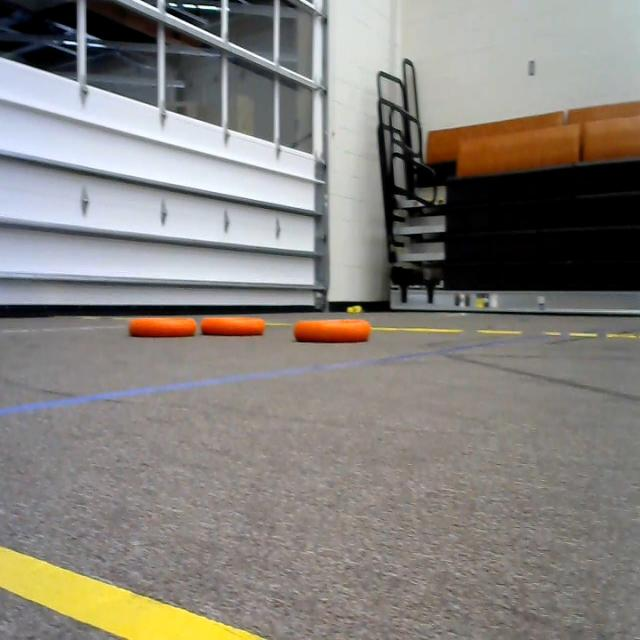note: (291, 310, 378, 346), (128, 310, 200, 343), (198, 308, 266, 341)
